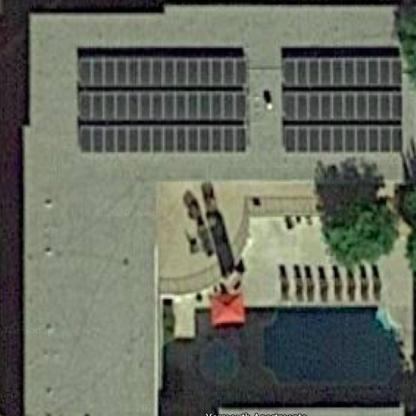solar_panel: (73, 50, 261, 160), (276, 45, 412, 166)
swimming_pool: (190, 289, 409, 405)
